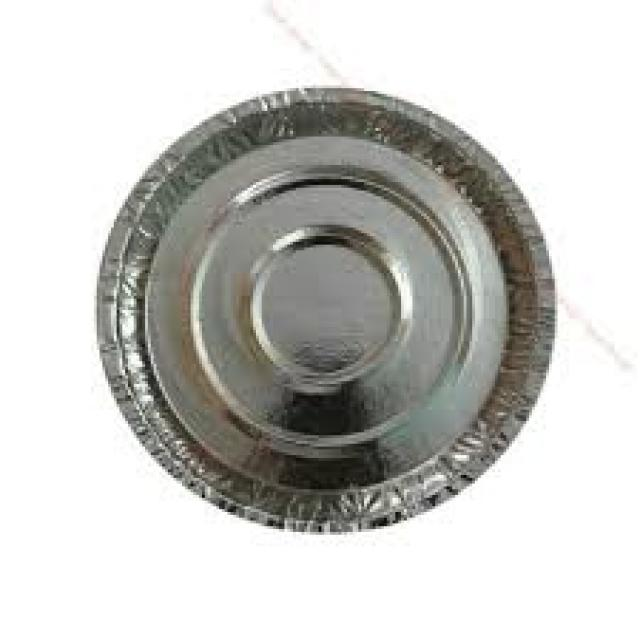Paper -Biodegradable-: (94, 85, 551, 533)
